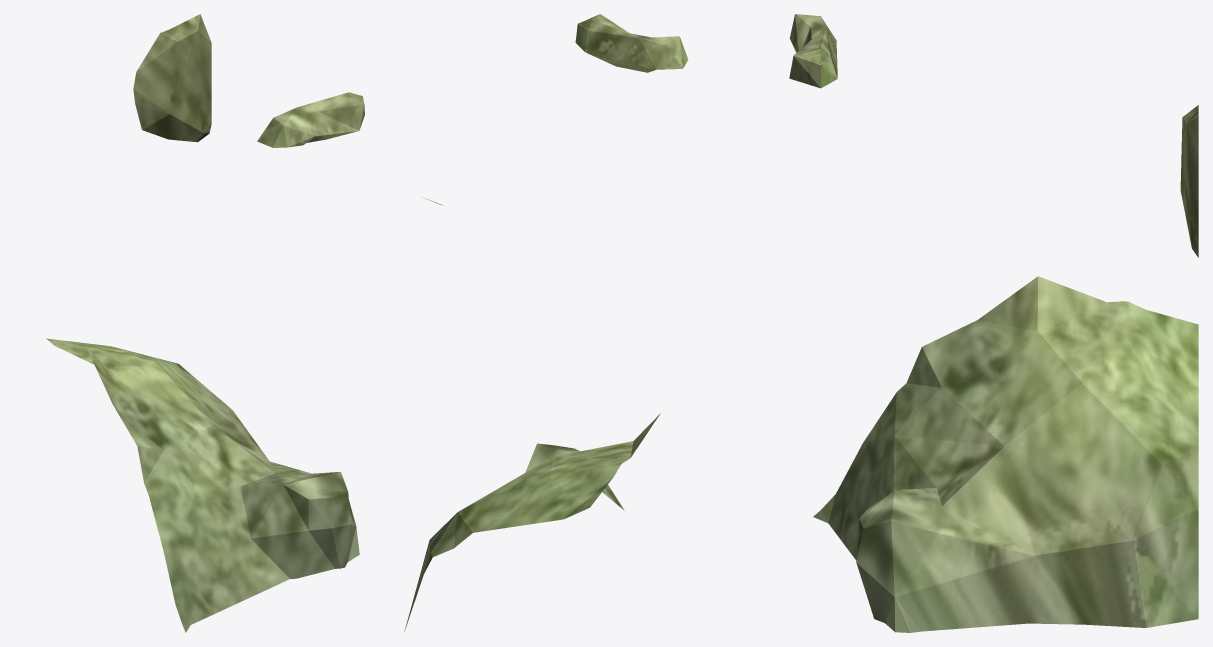
3 renders of one model, left to right at view 1: azimuth 30°, elevation 25°; view 2: azimuth 150°, elevation 25°; view 3: azimuth 270°, elevation 25°, orthographic. The views are drawn at different scales.
Size of the model in its own units: 0.8771 by 1.97 by 1.31.
1 material, 1 textured.
